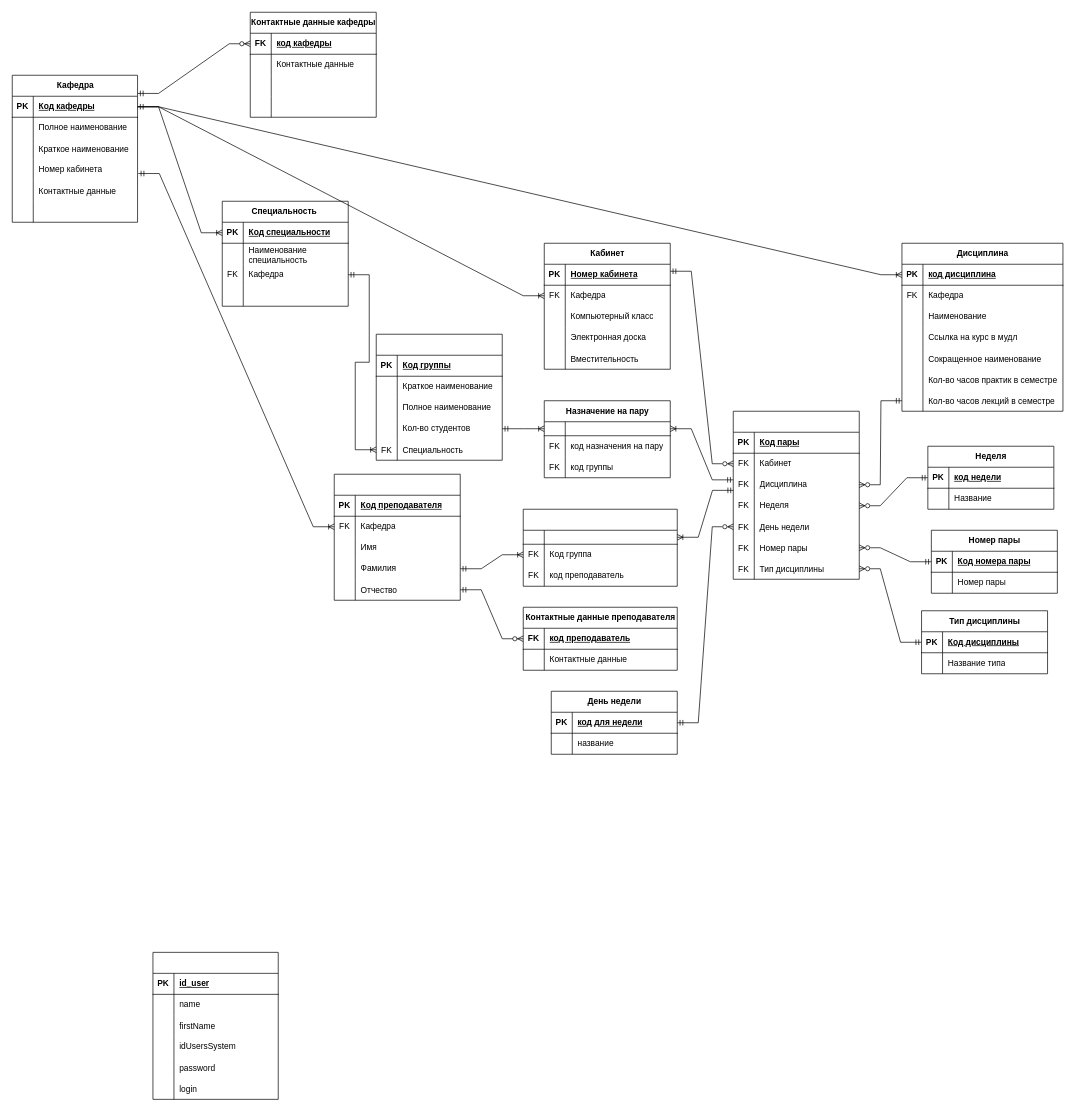
The diagram is 1075 pixels wide and 1112 high, and some of its shapes have lost their labels. The box of each missing label's shape, as (x1, y1, x2, y2) in pixels:
Аунтефикация: (152, 952, 278, 1099)
Группа студентов: (376, 334, 502, 460)
Информация о паре: (733, 411, 859, 579)
Преподаватель: (334, 474, 460, 600)
Преподаватель - назначение пары: (523, 509, 677, 586)
